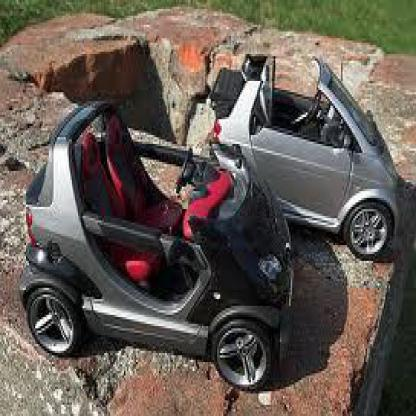Vehicle: (21, 101, 297, 396)
